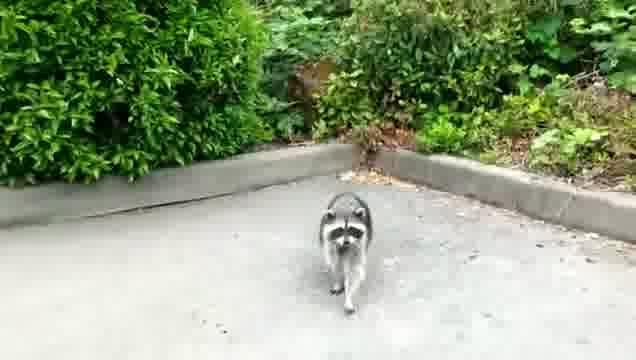raccoon: (319, 193, 372, 313)
